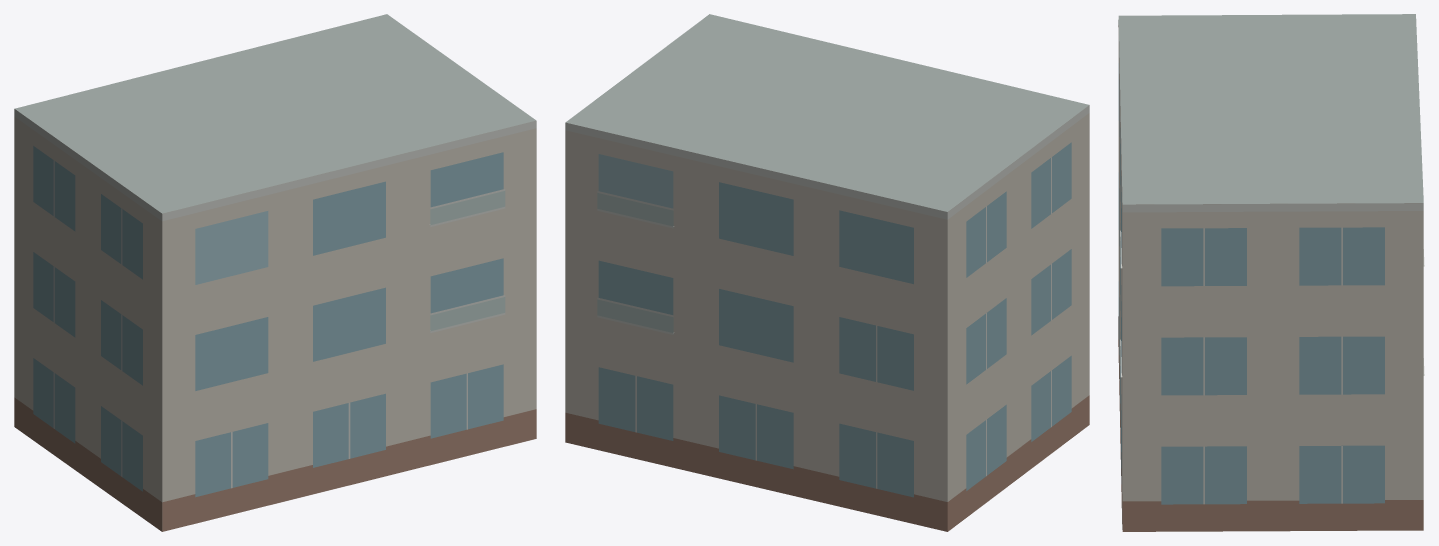
Rendered from survey-upis-32611992.glb.
3 renders of one model, left to right at view 1: azimuth 30°, elevation 25°; view 2: azimuth 150°, elevation 25°; view 3: azimuth 270°, elevation 25°, orthographic. The views are drawn at different scales.
Visible parts, largest first — view 1: survey-upis-32611992.tmp; view 2: survey-upis-32611992.tmp; view 3: survey-upis-32611992.tmp.
Part boxes in pixels (<box>): survey-upis-32611992.tmp: <box>14,14,536,531</box>; survey-upis-32611992.tmp: <box>565,14,1089,531</box>; survey-upis-32611992.tmp: <box>1118,14,1424,531</box>.
Bounding box in the file's own units: 12.62 × 10.1 × 8.56.
